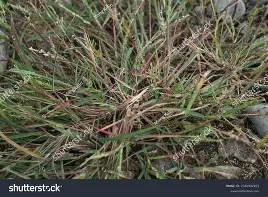weed: (0, 0, 267, 178)
